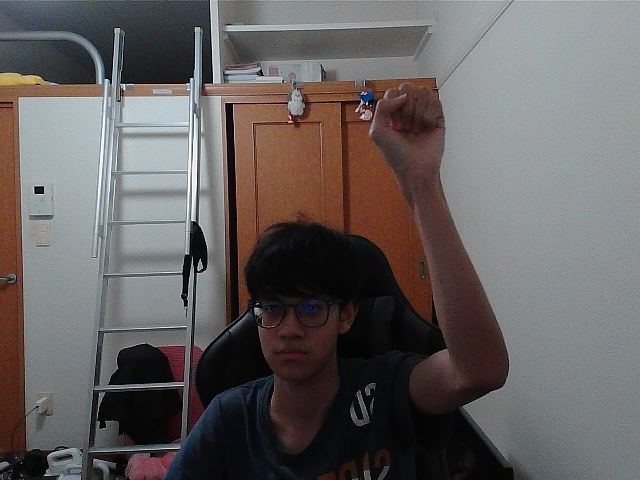closed_palm: (377, 89, 437, 163)
